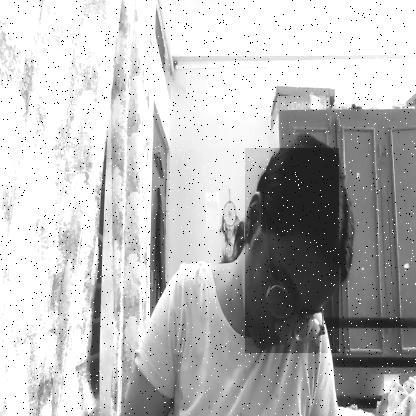Distracted: (245, 148, 339, 353)
